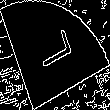L_SW: (32, 31, 78, 79)
